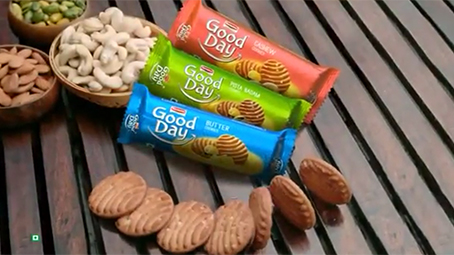VEG: (31, 234, 38, 241), (170, 96, 178, 102)
